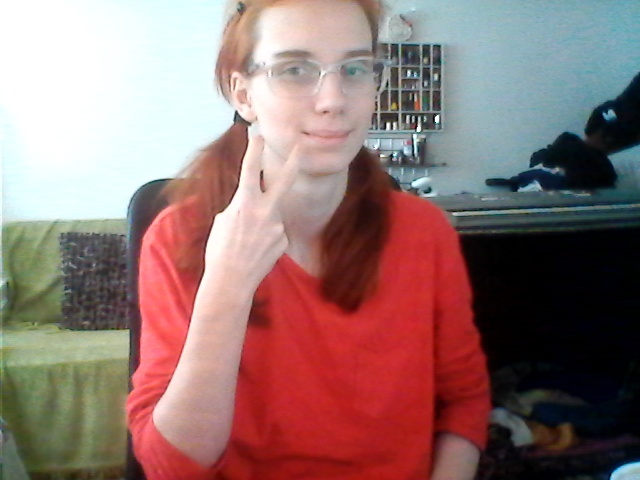usmievat: (204, 120, 391, 252)
